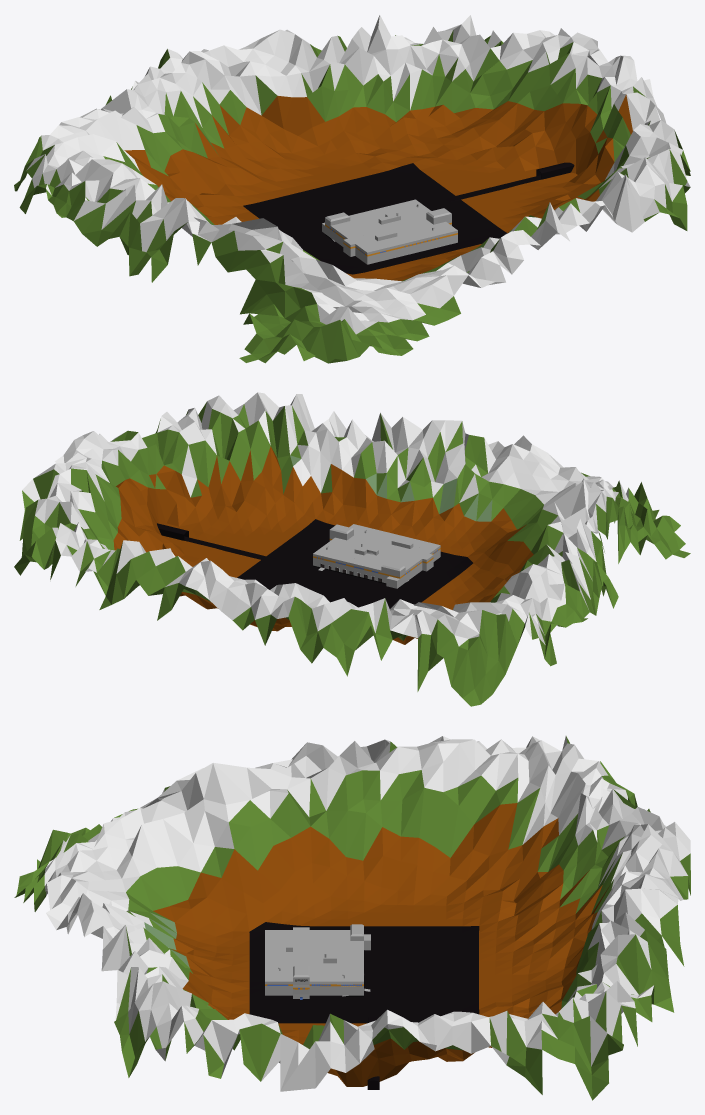
Rendered from warehousemapV2.glb.
The picture shows the model from 3 angles, top to bottom: view 1: azimuth 30°, elevation 25°; view 2: azimuth 150°, elevation 25°; view 3: azimuth 270°, elevation 25°; orthographic projection. The views are drawn at different scales.
Visible parts, largest first — view 1: Plane, ceiling, warehouse; view 2: Plane, ceiling, warehouse; view 3: Plane, ceiling, warehouse.
Boxes of the visible parts, x1=… form: Plane: x1=14, y1=15, x2=690, y2=363; ceiling: x1=325, y1=199, x2=457, y2=252; warehouse: x1=322, y1=212, x2=457, y2=264; Plane: x1=14, y1=392, x2=690, y2=706; ceiling: x1=313, y1=524, x2=440, y2=574; warehouse: x1=313, y1=536, x2=440, y2=588; Plane: x1=14, y1=736, x2=690, y2=1100; ceiling: x1=265, y1=924, x2=363, y2=984; warehouse: x1=265, y1=927, x2=370, y2=999.
Size of the model in its own units: 21.76 by 3.65 by 19.45.
Materials: 10 (2 with a texture image).
